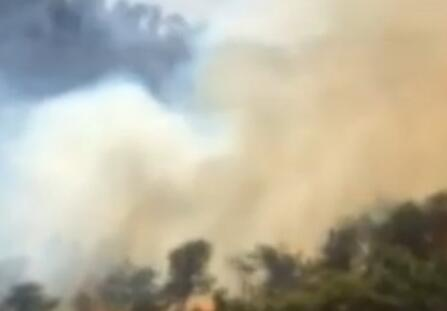yanwu: (1, 0, 447, 304)
